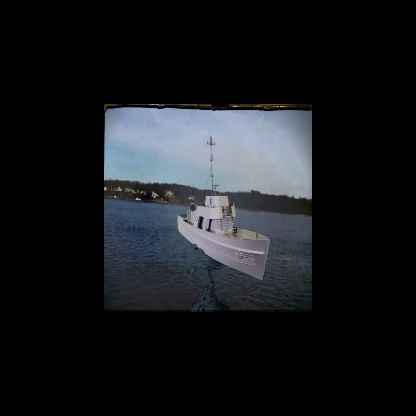YP689: (176, 138, 270, 279)
